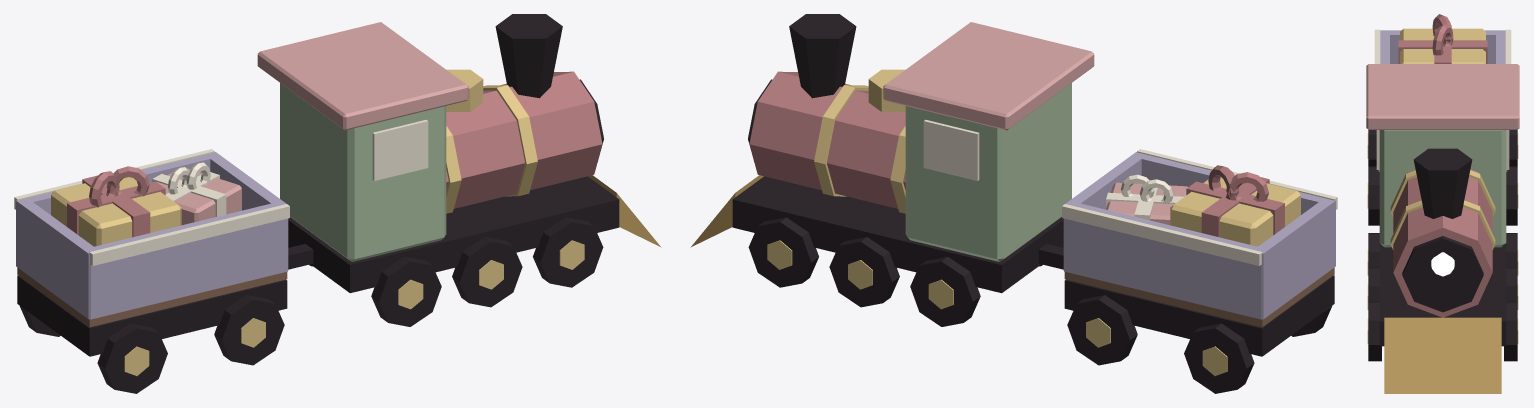
The model's file is sb_toy_train.glb.
The picture shows the model from 3 angles, left to right: view 1: azimuth 30°, elevation 25°; view 2: azimuth 150°, elevation 25°; view 3: azimuth 270°, elevation 25°; orthographic projection. The views are drawn at different scales.
Visible parts, largest first — view 1: toy_train; view 2: toy_train; view 3: toy_train.
Boxes of the visible parts, x1,y1,x2,y2 form: toy_train: [14, 14, 661, 393]; toy_train: [690, 14, 1337, 393]; toy_train: [1366, 14, 1519, 393].
Bounding box in the file's own units: 1.28 × 0.49 × 0.34.
